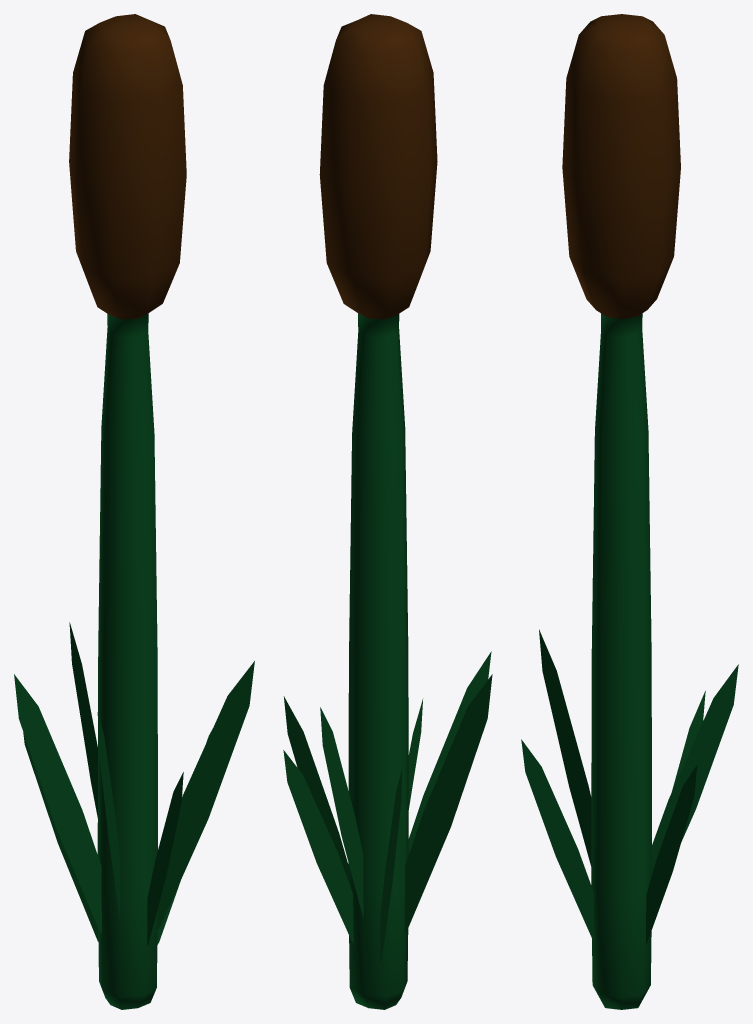
The model's file is Bullrush.fbx.
3 renders of one model, left to right at view 1: azimuth 30°, elevation 25°; view 2: azimuth 150°, elevation 25°; view 3: azimuth 270°, elevation 25°, orthographic.
Parts seen in each view (by area): view 1: Cube; view 2: Cube; view 3: Cube.
Part boxes in pixels (bbox=[...]): Cube: bbox=[14, 14, 254, 1009]; Cube: bbox=[283, 14, 492, 1009]; Cube: bbox=[521, 14, 738, 1009].
Bounding box in the file's own units: 129 × 570 × 115.
